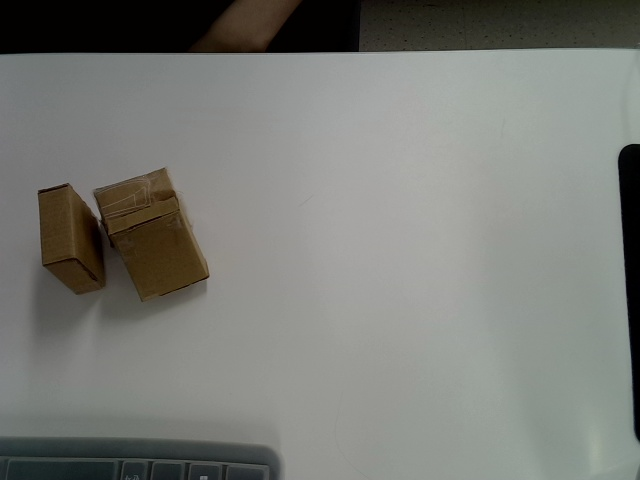defect: (93, 167, 177, 251)
normal: (108, 198, 211, 303), (37, 184, 105, 296)
